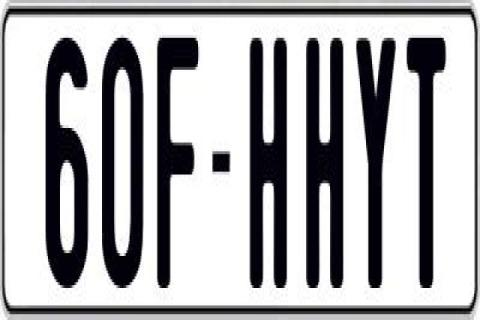0: (44, 35, 92, 285), (102, 35, 144, 303)
F: (154, 29, 198, 294)
H: (248, 38, 290, 291), (306, 38, 346, 300)
T: (404, 35, 446, 285)
Y: (356, 38, 398, 300)
